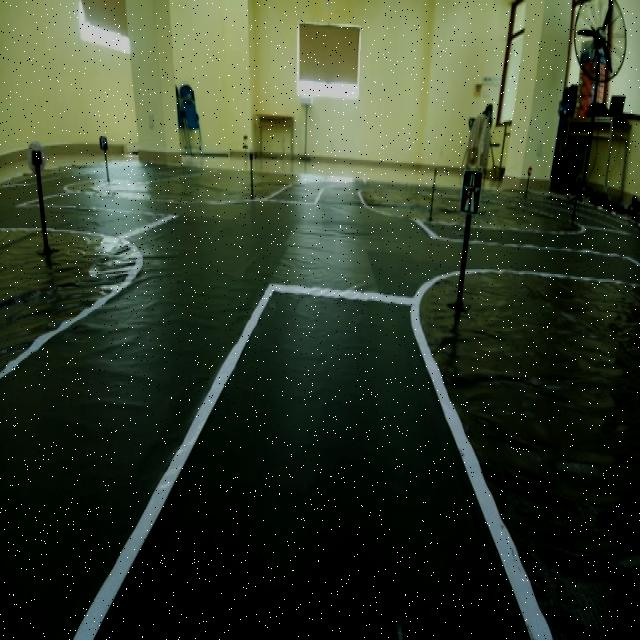highway_exit: (458, 164, 486, 224)
